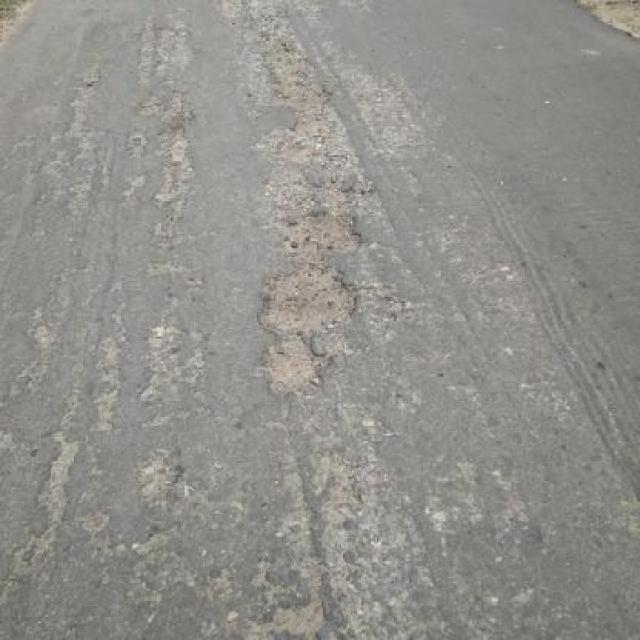Pothole: (252, 263, 362, 334), (260, 42, 336, 140), (268, 209, 366, 259), (258, 332, 329, 401), (34, 426, 84, 522), (263, 595, 328, 638), (136, 452, 182, 502)
